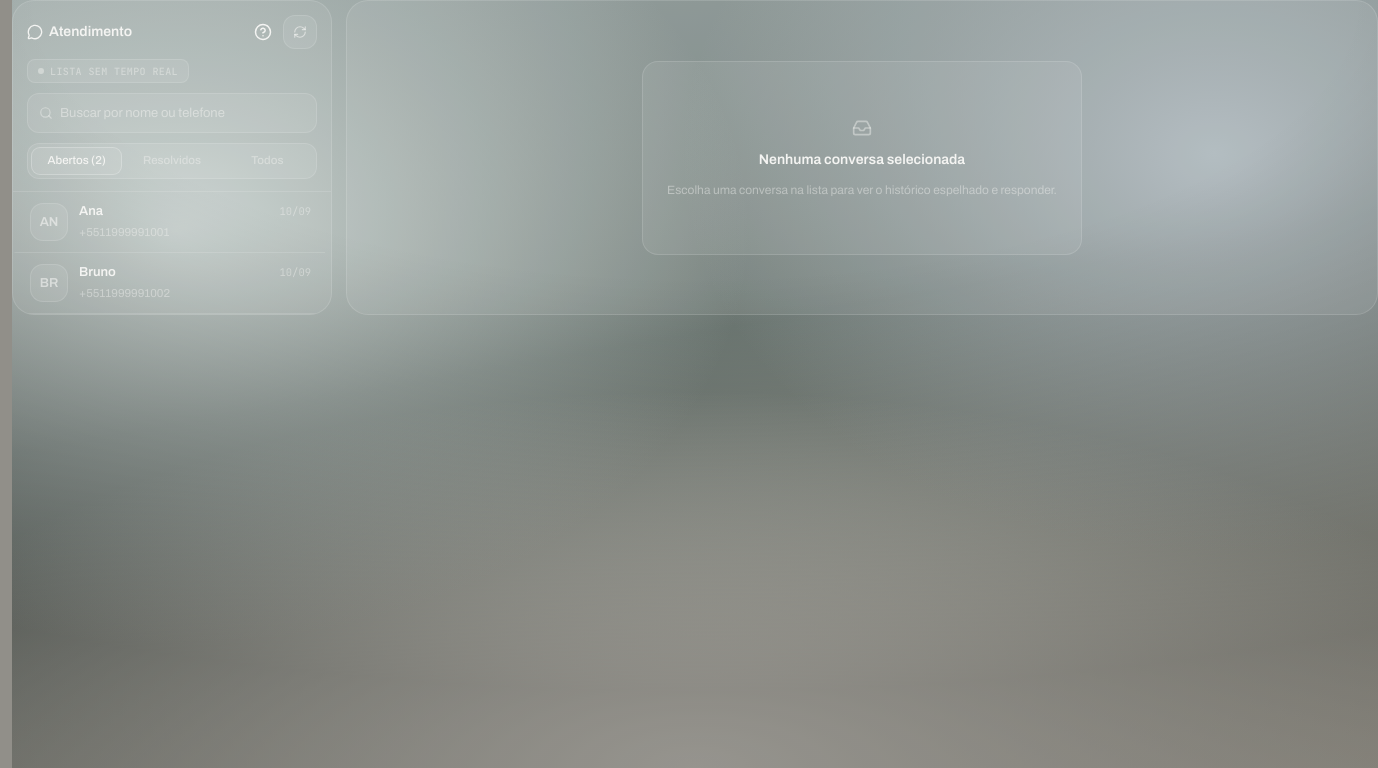
Test: MensageriaDesktop — leitura do histórico › resposta atrasada da conversa 1 não entra na conversa 2
Click the text "Ana".
click(91, 211)  # box top-left (79, 203), bottom-right (103, 220)
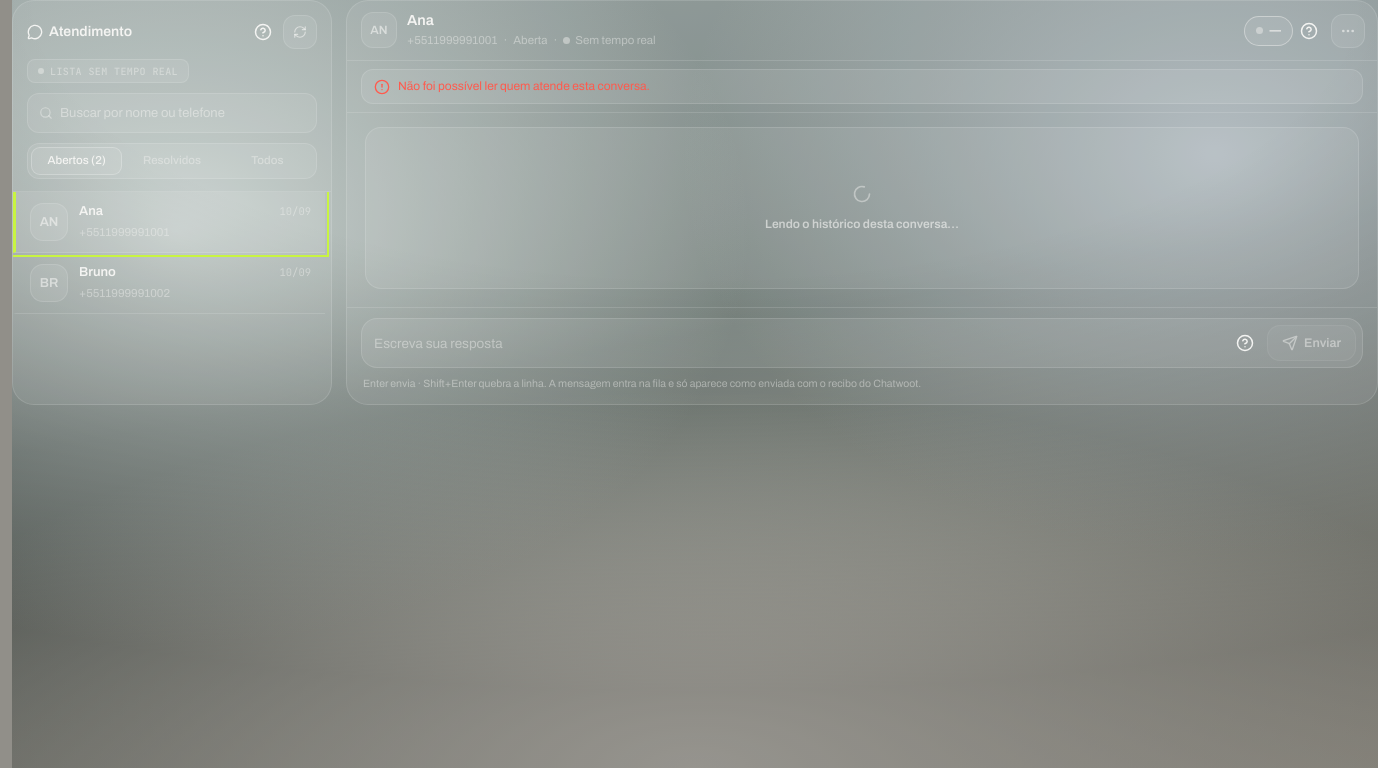
Click the text "Bruno".
click(97, 272)  # box top-left (79, 264), bottom-right (116, 281)
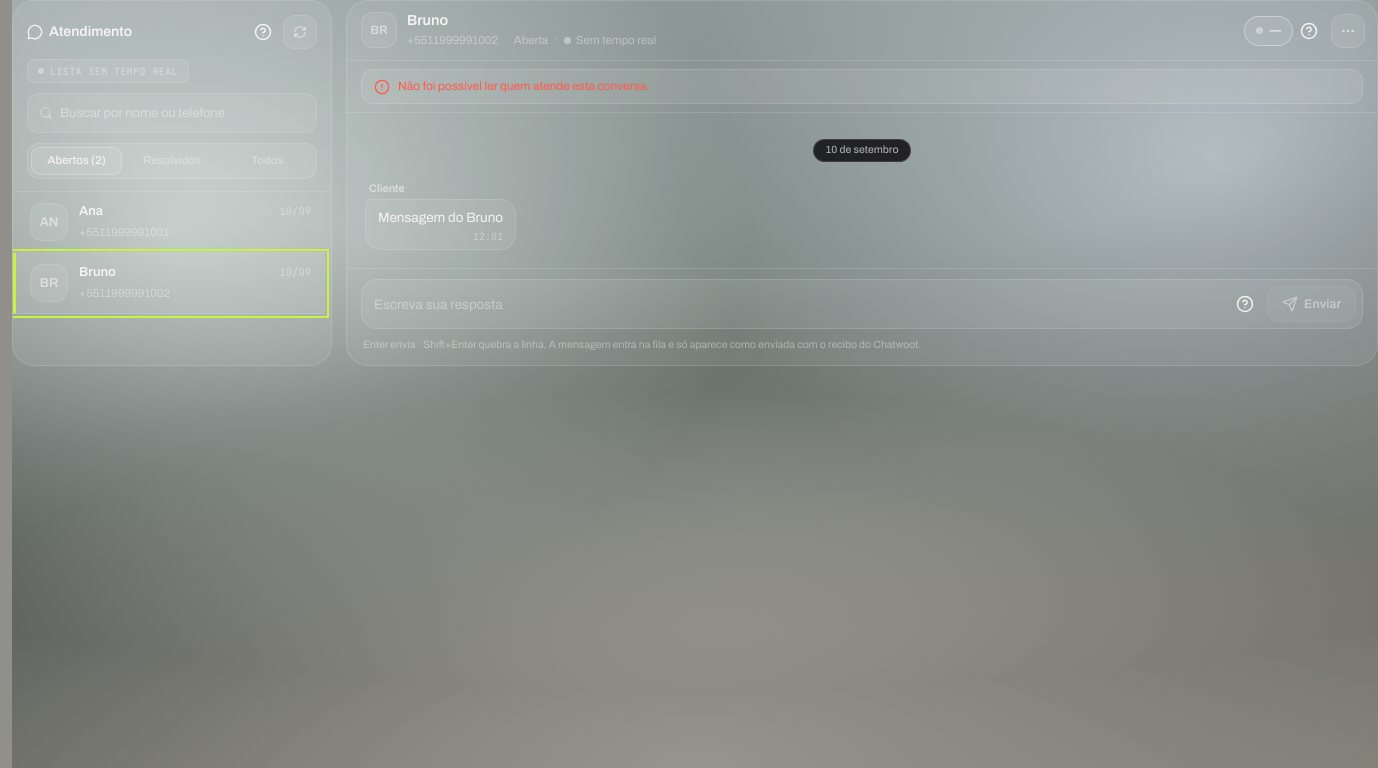
Result: the text "Mensagem do Bruno" is shown at top-left (378, 208), bottom-right (503, 228)
